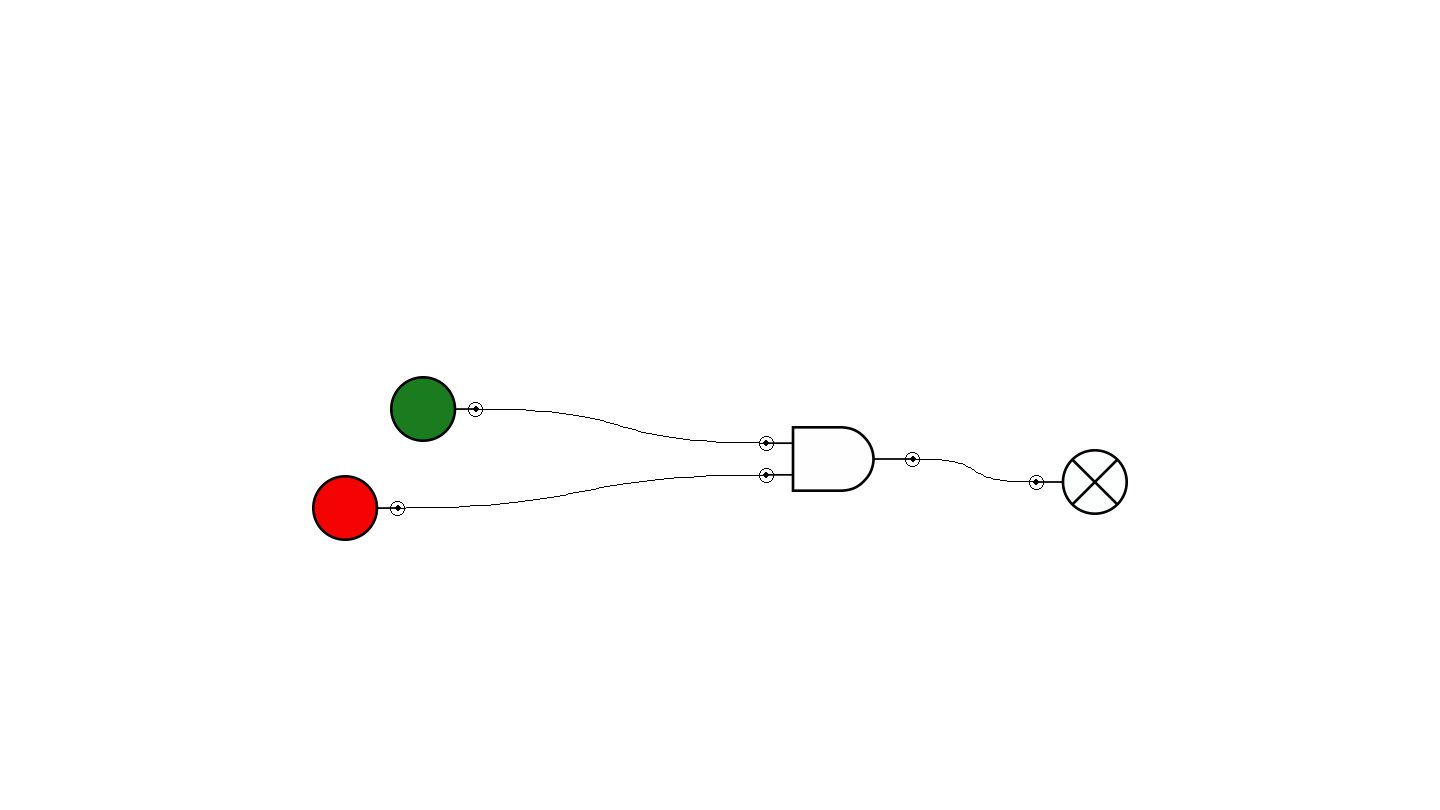and: (759, 426, 920, 492)
bulb: (1029, 449, 1128, 515)
switch_False: (312, 475, 405, 541)
switch_True: (390, 376, 483, 442)
